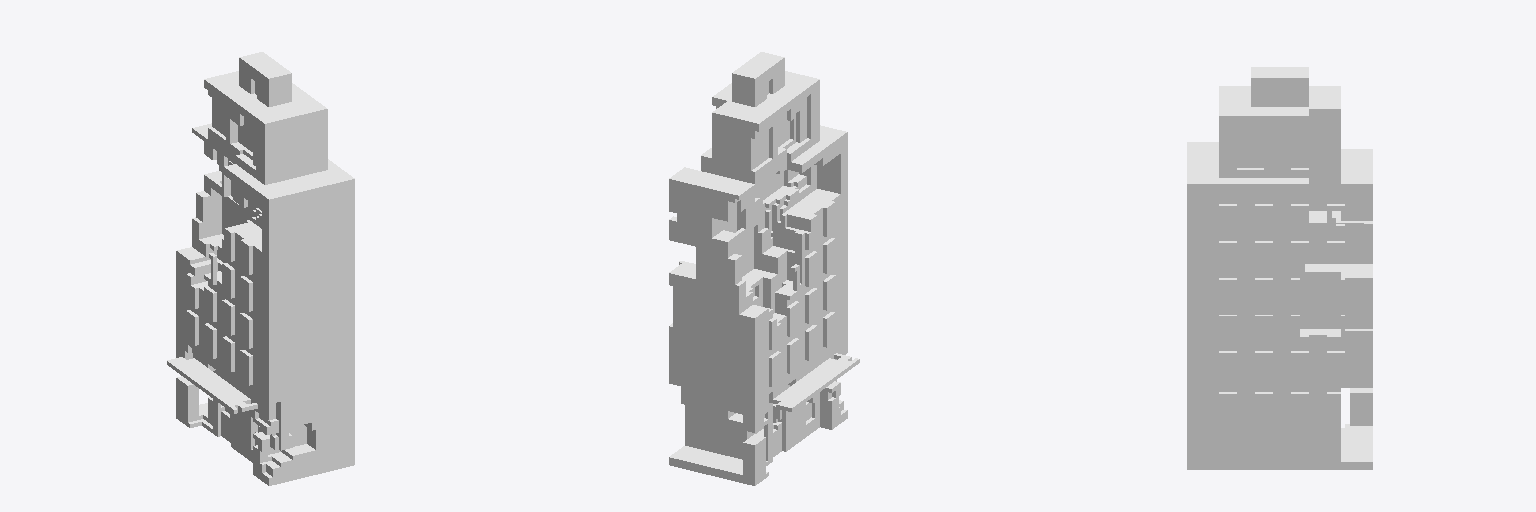
The model's file is rebuild_2.2.obj.
3 renders of one model, left to right at view 1: azimuth 30°, elevation 25°; view 2: azimuth 150°, elevation 25°; view 3: azimuth 270°, elevation 25°, orthographic.
Bounding box in the file's own units: 29 × 92 × 41.